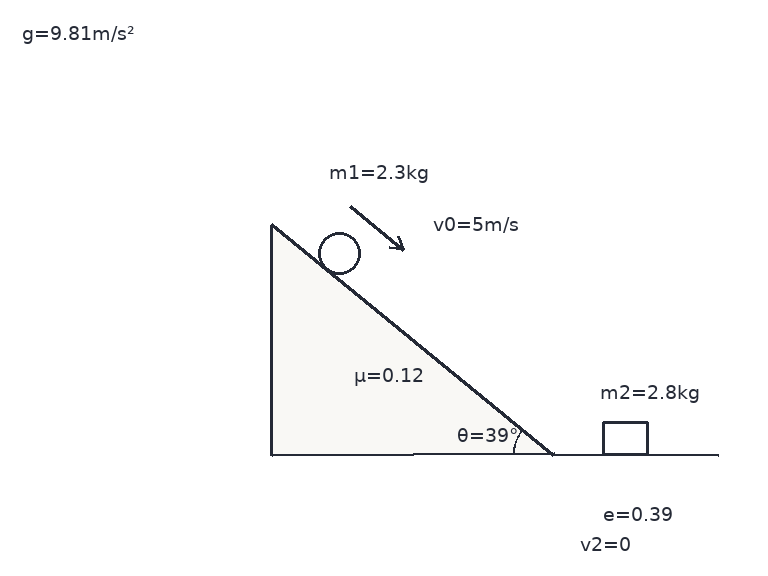ball: (316, 230, 362, 276)
block: (601, 420, 649, 456)
ramp: (269, 223, 556, 456)
